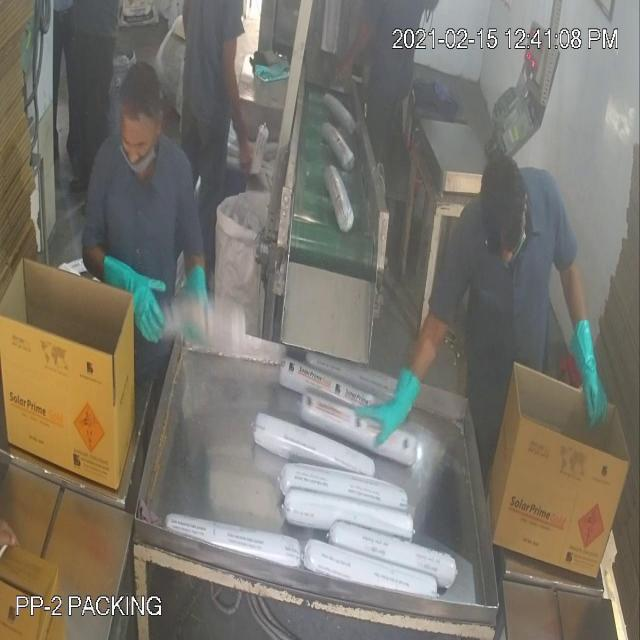Gloves: (38, 58, 588, 408)
